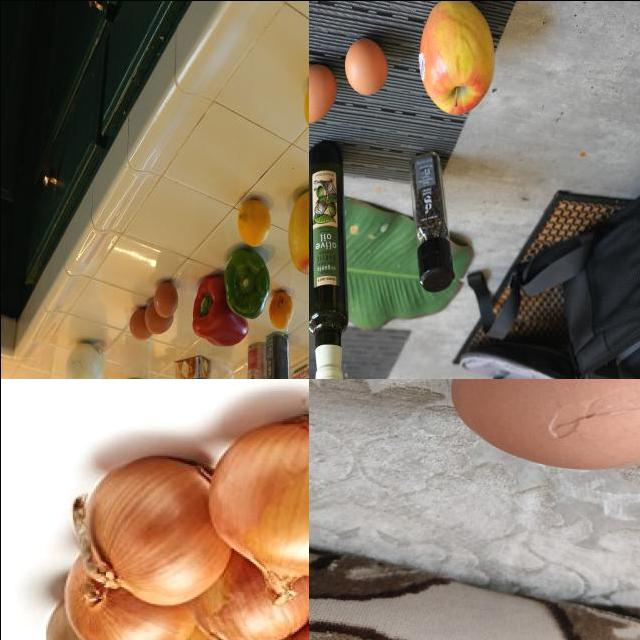bell_pepper: (402, 146, 464, 296), (191, 273, 249, 348), (225, 255, 271, 320), (266, 336, 291, 379)
egg: (450, 379, 640, 472), (336, 26, 395, 100), (309, 47, 341, 128), (142, 294, 172, 336), (154, 282, 178, 316), (129, 308, 150, 341)
onion: (85, 450, 229, 604), (210, 411, 309, 606), (62, 544, 193, 640), (191, 554, 309, 640), (47, 591, 188, 640), (63, 341, 104, 379)
